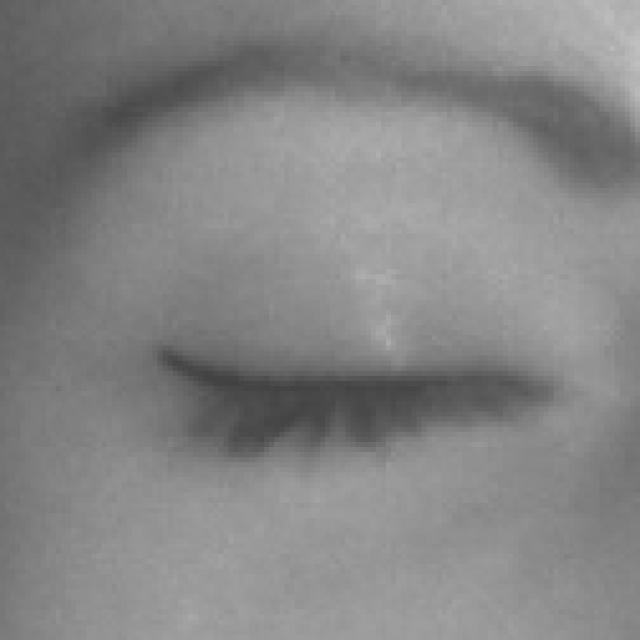close: (19, 7, 640, 536)
